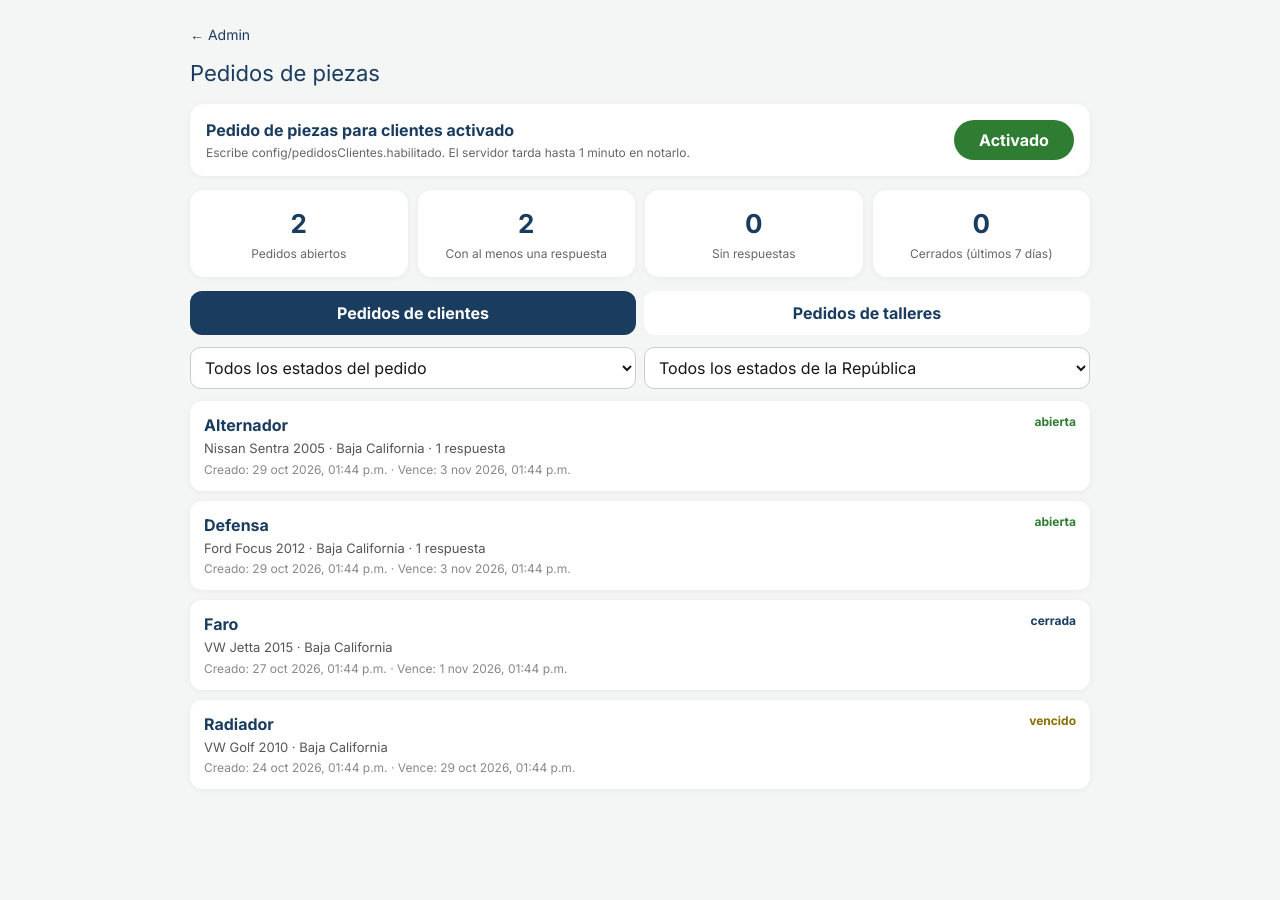
Test: Sugerir yonke: pedidos de clientes › sin la bandera no aparece; "Quitar respuesta" sí
The width and height of the screenshot is (1280, 900).
Click the text "Alternador". click: (246, 425)
box: [204,413,288,437]
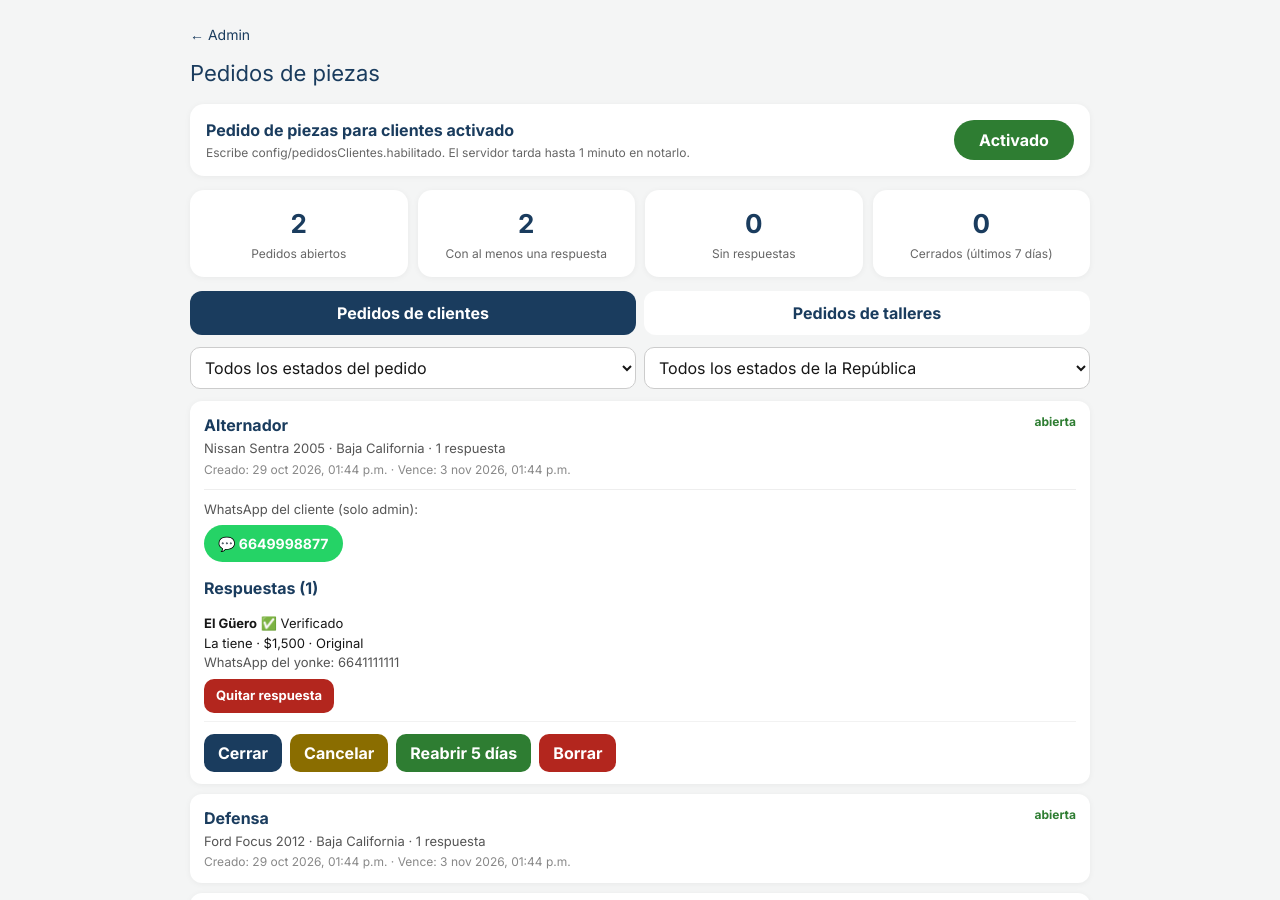
expect the text "El Güero" is shown: met, box [204,615,257,631]
expect the button "Quitar respuesta" is shown: met, box [204,678,334,712]
